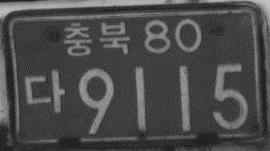0: (173, 17, 203, 53)
1: (175, 61, 195, 134), (131, 63, 150, 134)
5: (211, 61, 249, 130)
8: (142, 17, 171, 55)
9: (76, 66, 115, 135)
다: (22, 66, 67, 114)
충북_O: (62, 20, 131, 58)
